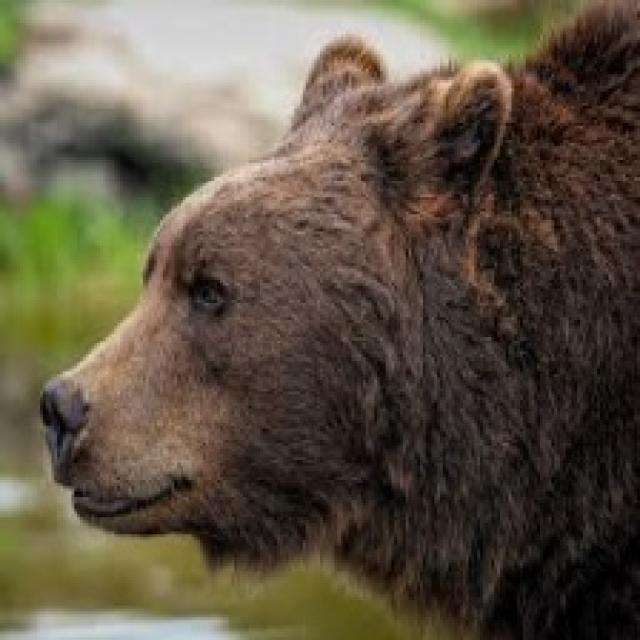animal: (49, 52, 640, 597)
